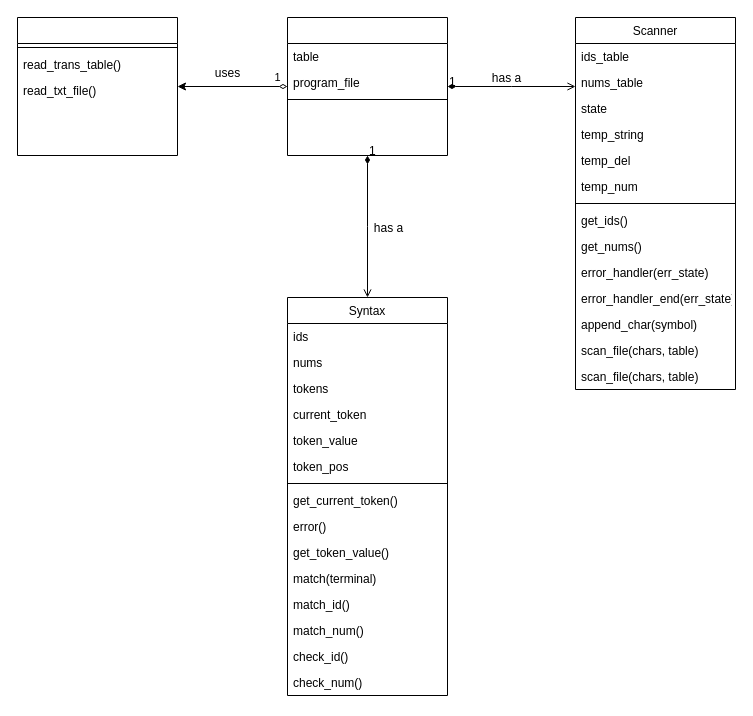
Image size: 753x716. Some labels were removed from this diagram. The box of each missing label's shape, as (x1, y1, x2, y2) in pixels:
Compiler: (286, 16, 448, 156)
file_reader: (16, 16, 178, 156)
